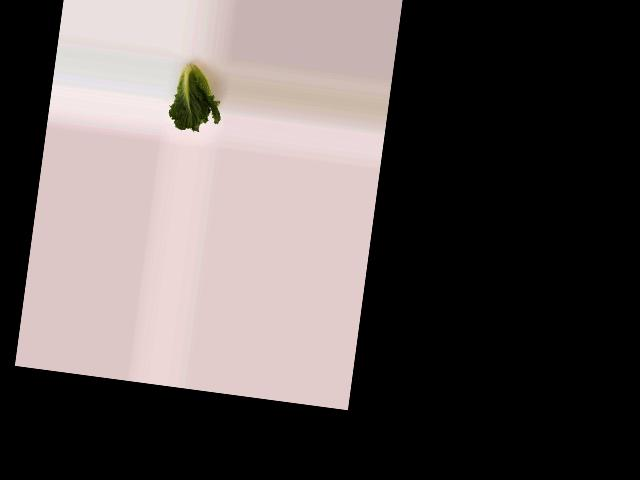lettuce: (165, 54, 225, 136)
